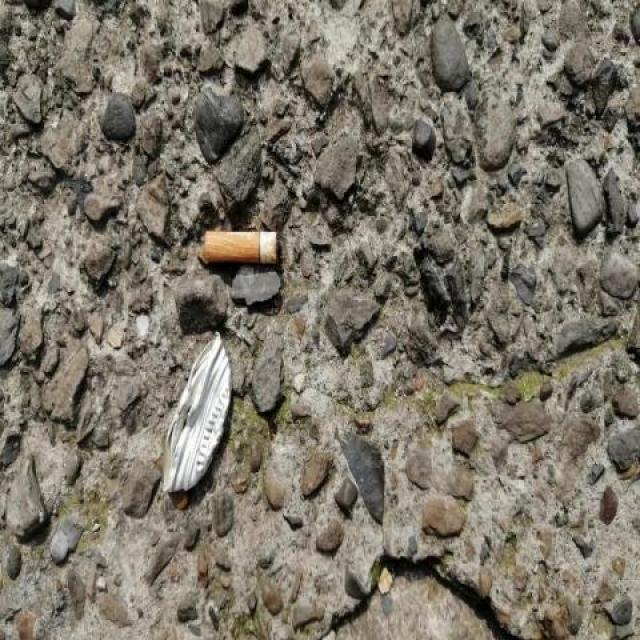non-organic waste: (200, 227, 284, 272)
